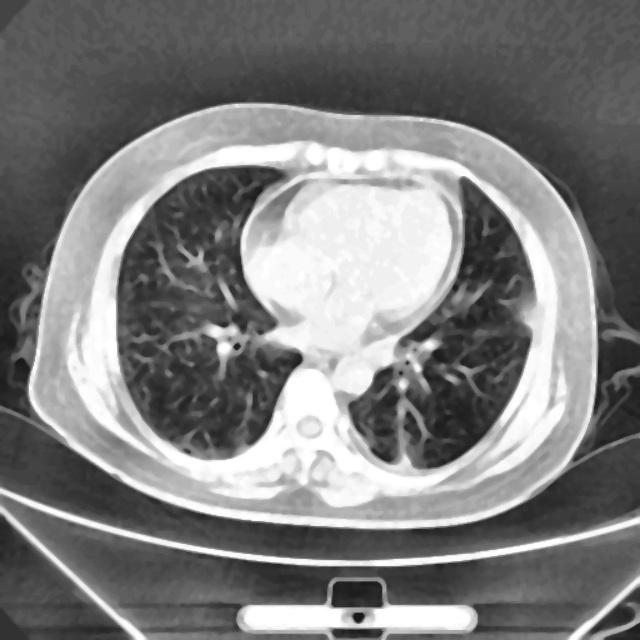covid: (27, 103, 611, 528)
